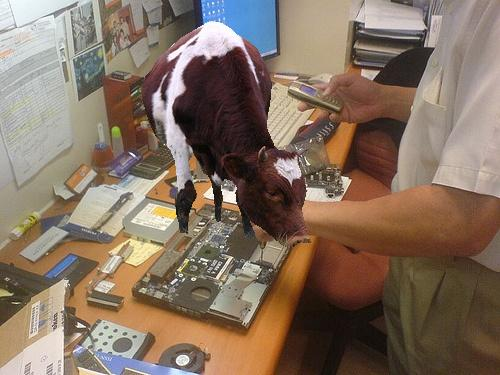tampered: (143, 22, 311, 248)
